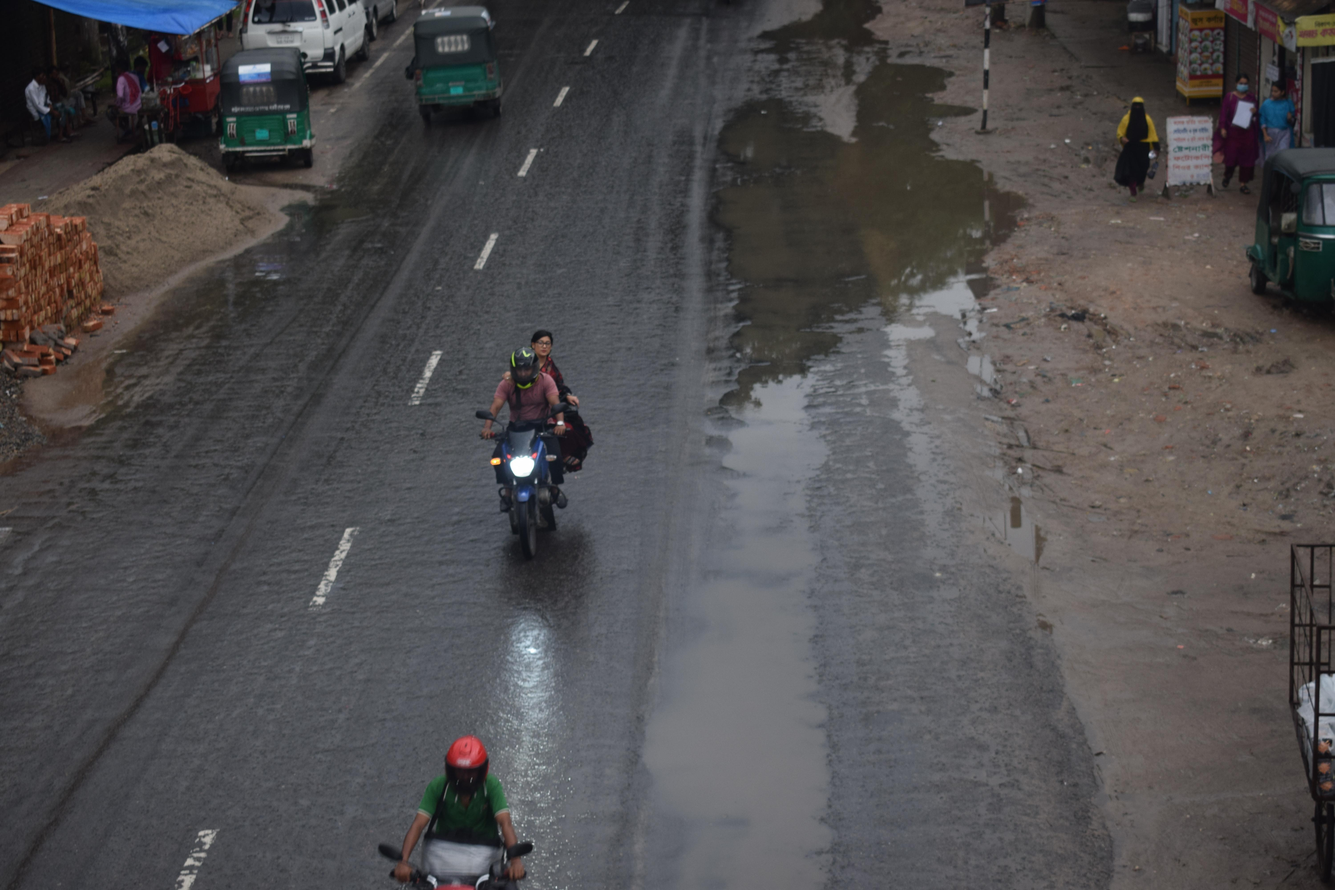Bike: (416, 295, 668, 581), (338, 690, 569, 890)
Car: (234, 0, 400, 103)
